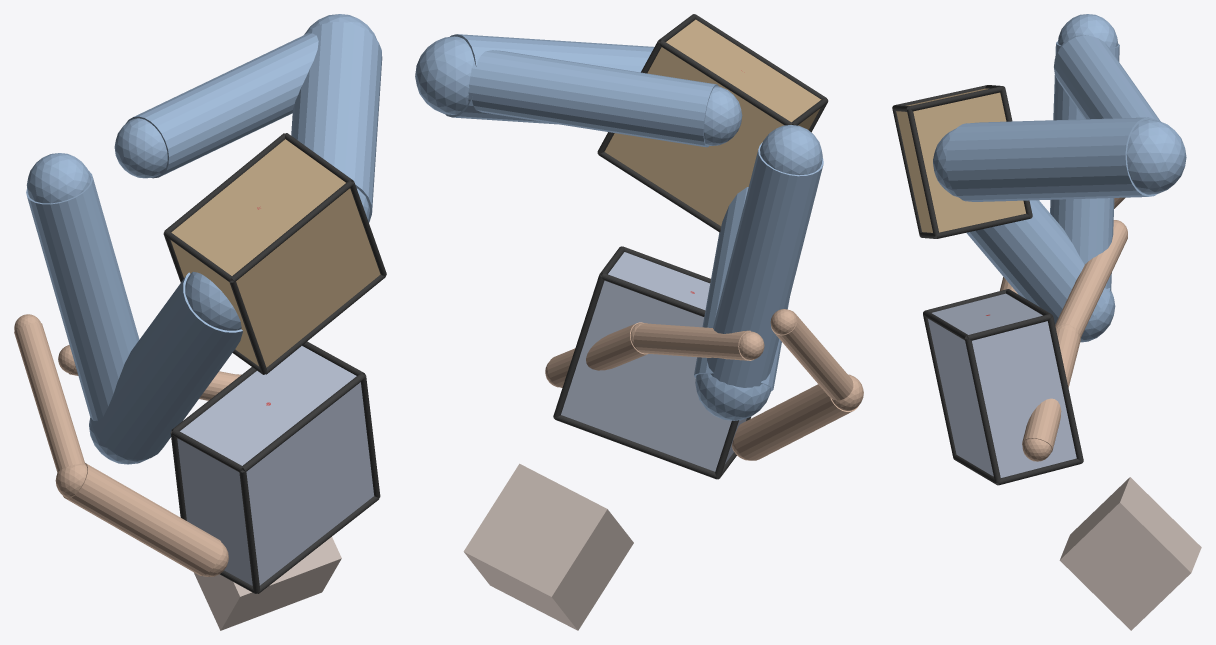
Rendered from maquette_modified_lines.glb.
3 renders of one model, left to right at view 1: azimuth 30°, elevation 25°; view 2: azimuth 150°, elevation 25°; view 3: azimuth 270°, elevation 25°, orthographic. The views are drawn at different scales.
Parts seen in each view (by area): view 1: world; view 2: world; view 3: world.
Boxes of the visible parts, left/top/right/bottom form: world: left=14, top=14, right=386, bottom=630; world: left=415, top=14, right=863, bottom=630; world: left=892, top=14, right=1201, bottom=630.
Bounding box in the file's own units: 0.6497 × 0.9367 × 0.4882.
